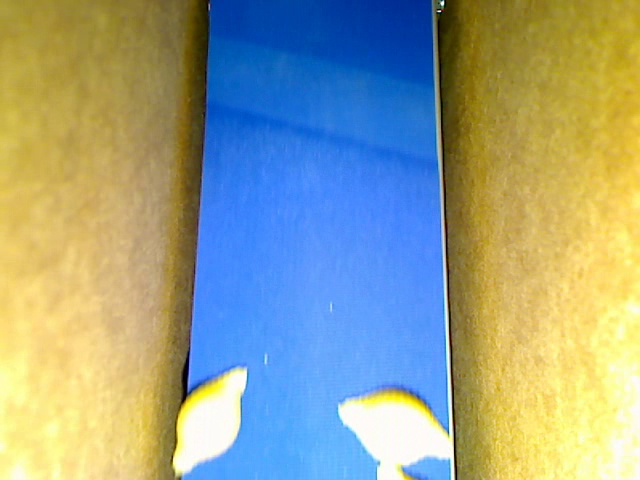shell: (337, 388, 454, 467), (171, 365, 247, 473)
